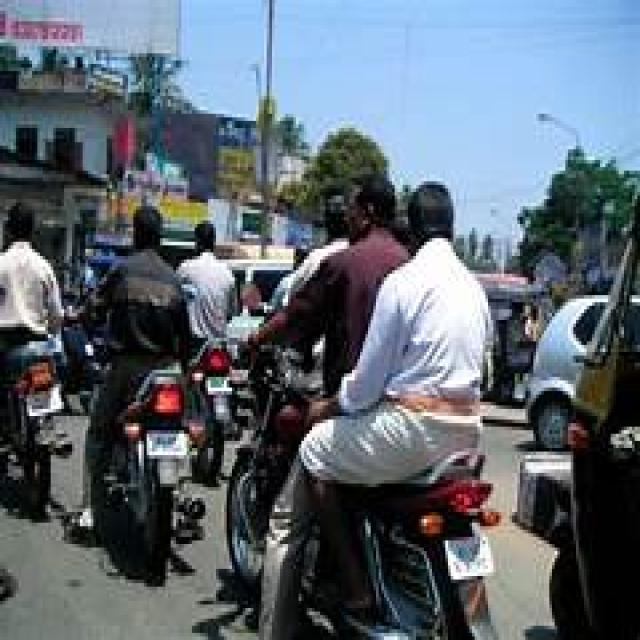Auto: (516, 200, 640, 638)
Car: (528, 295, 607, 449)
Two Wheeler: (290, 453, 492, 638), (98, 343, 241, 582), (226, 348, 309, 604), (1, 340, 71, 511)
